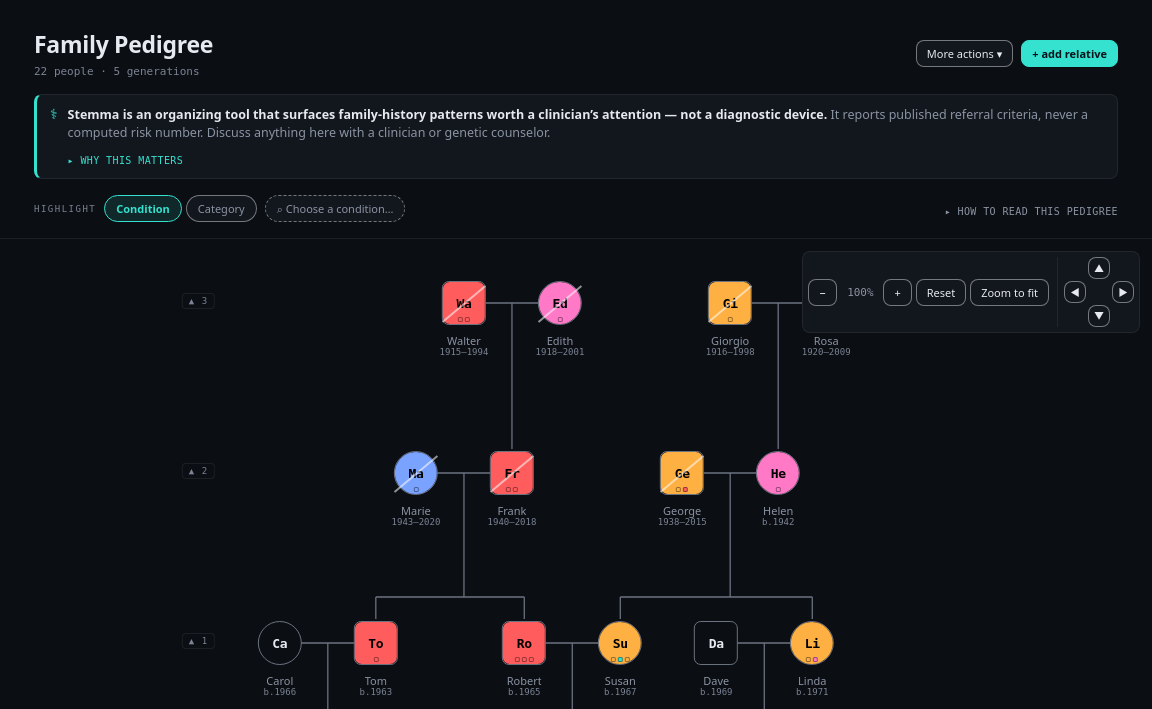
Scenario: PedigreeView › spells out a spotlighted category’s contents as a breakdown string (M2)
What coordinates should you click on to do the following:
click the button "Category"
I would click on:
 (221, 209)
Its box is [186,195,257,222].
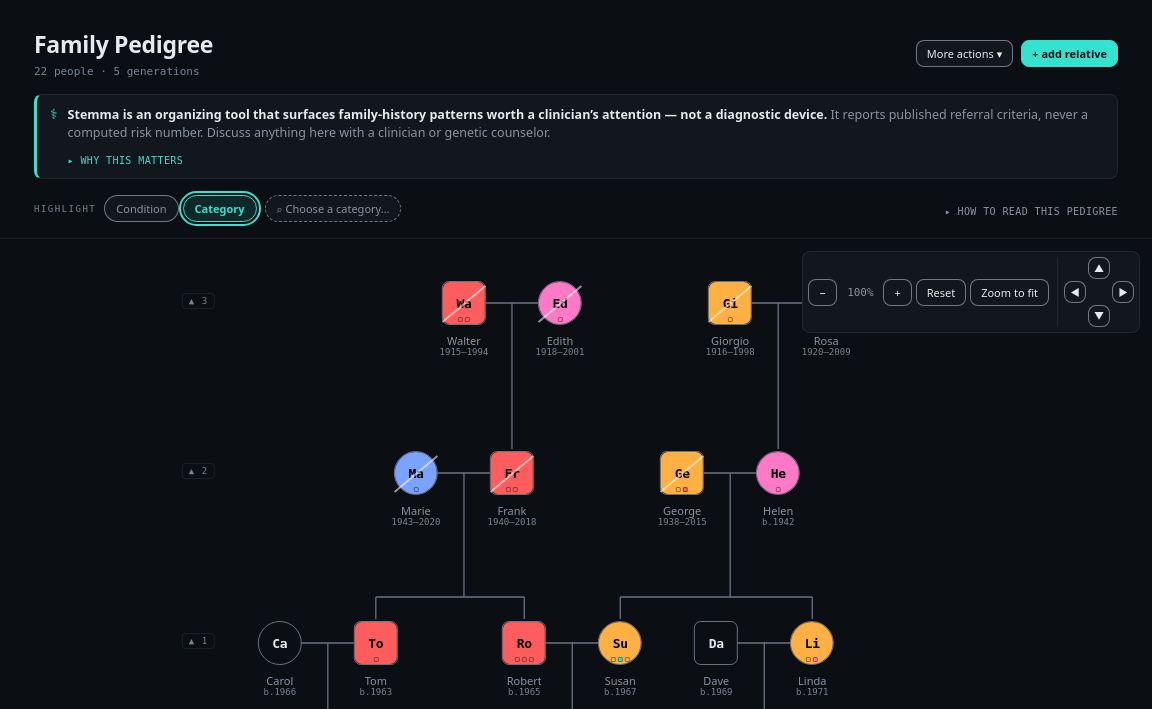
What coordinates should you click on to do the following:
click the button "⌕ Choose a category…"
I would click on:
 (333, 209)
Its box is [264,195,401,222].
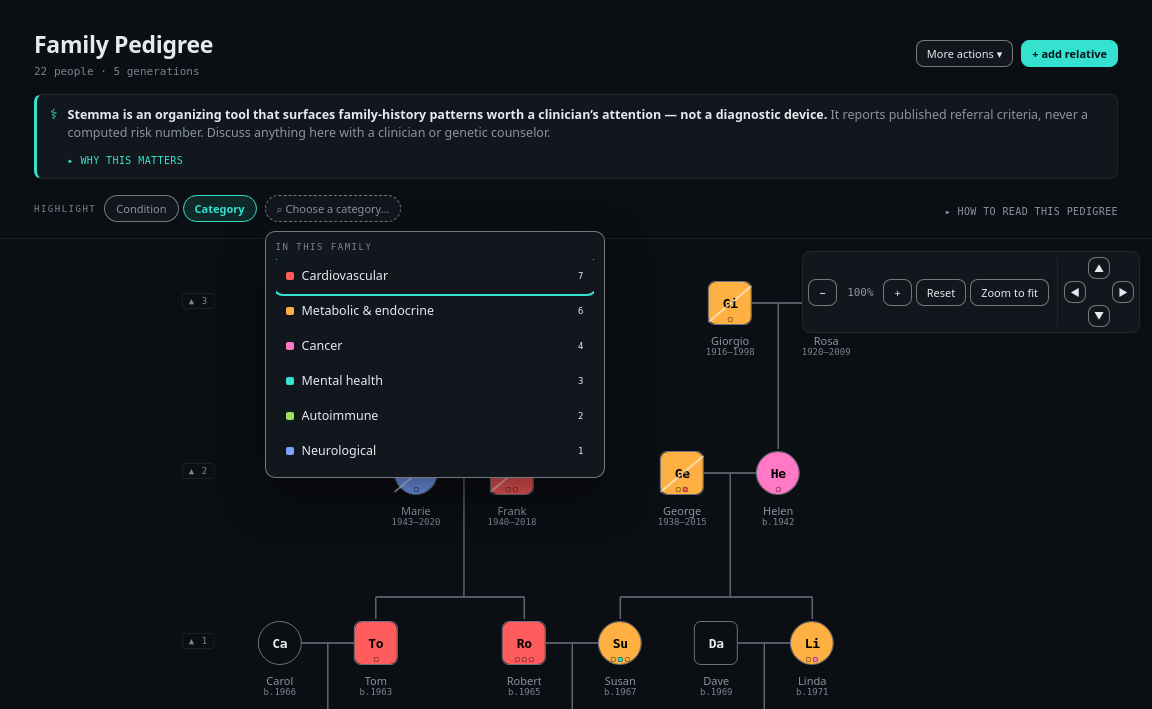
What coordinates should you click on to do the following:
click the button with aria-label "Cancer,"
I would click on:
 (322, 346)
Its box is [276,329,594,362].
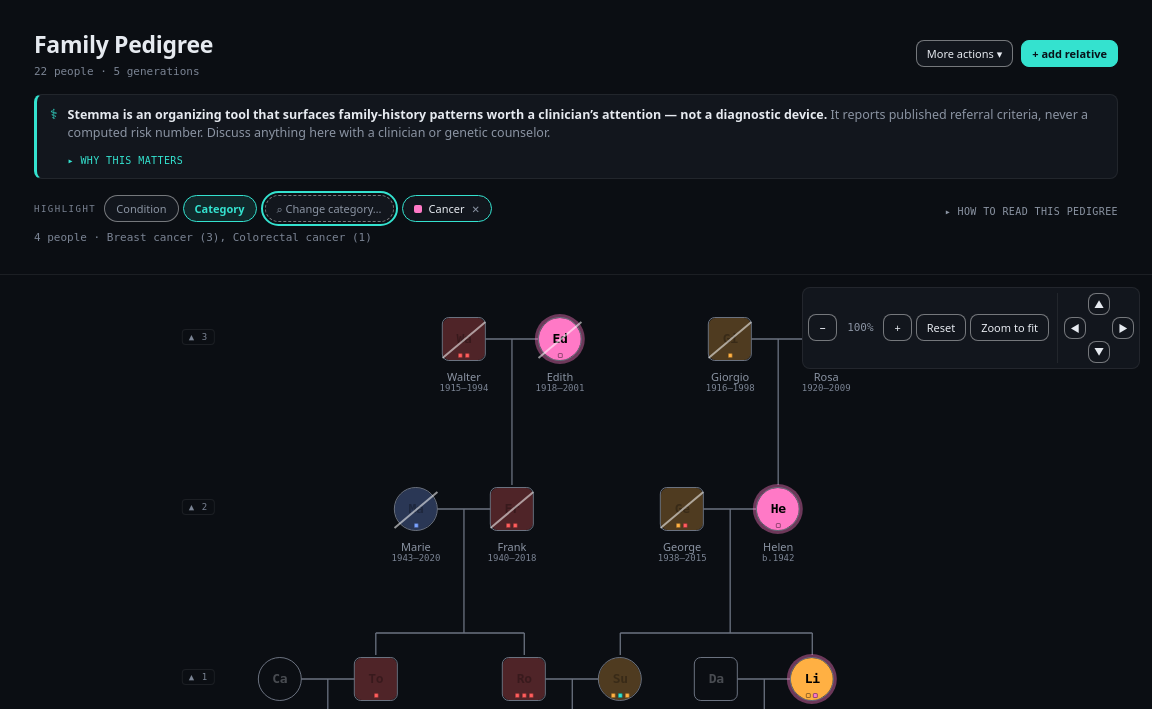
Expected: the text "4 people · Breast cancer (3), Colorectal cancer (1)" is shown, [34,231,372,244]
